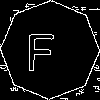F: (25, 25, 56, 71)
